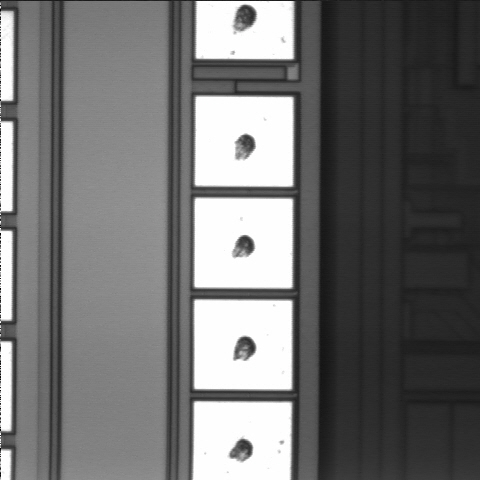pad: (195, 96, 293, 187), (194, 198, 293, 288), (194, 300, 292, 389)
